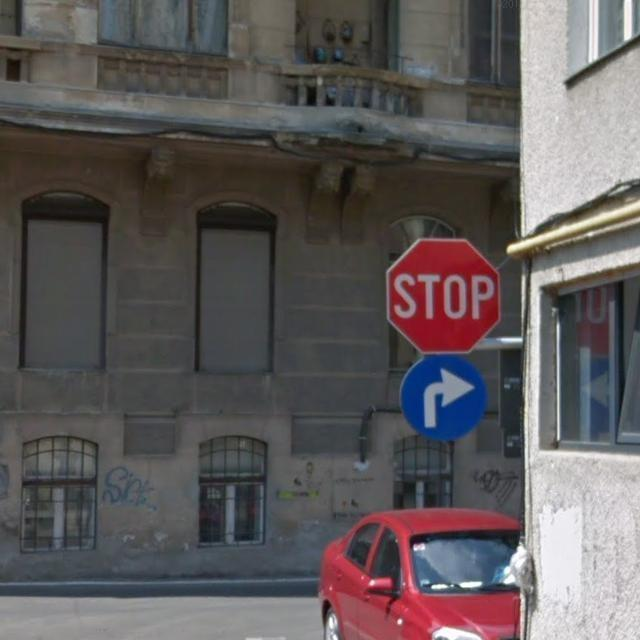prio_stop: (384, 238, 502, 356)
